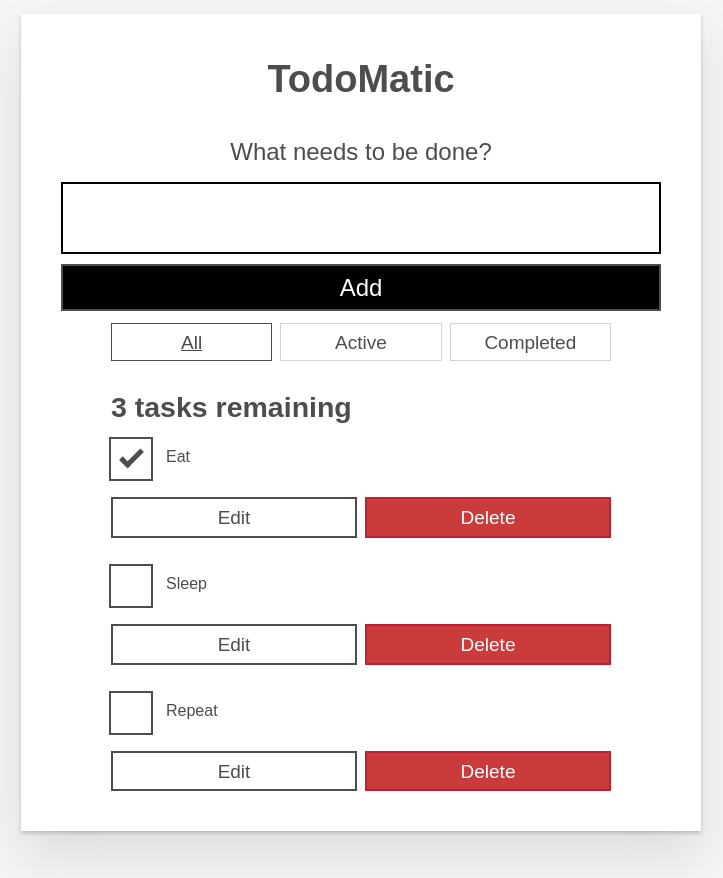
Scenario: adds a task
Type "Walk the dog" into the field labelled "What needs to be done?" at (361, 218), box [61, 182, 661, 254]
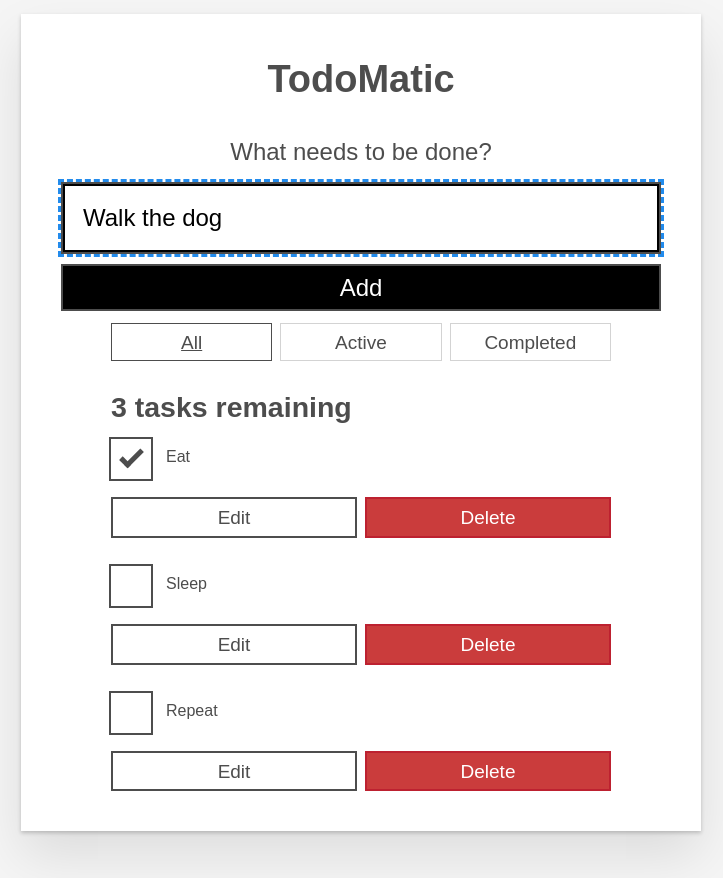
Click the button "Add" at (361, 287), box [61, 264, 661, 311]
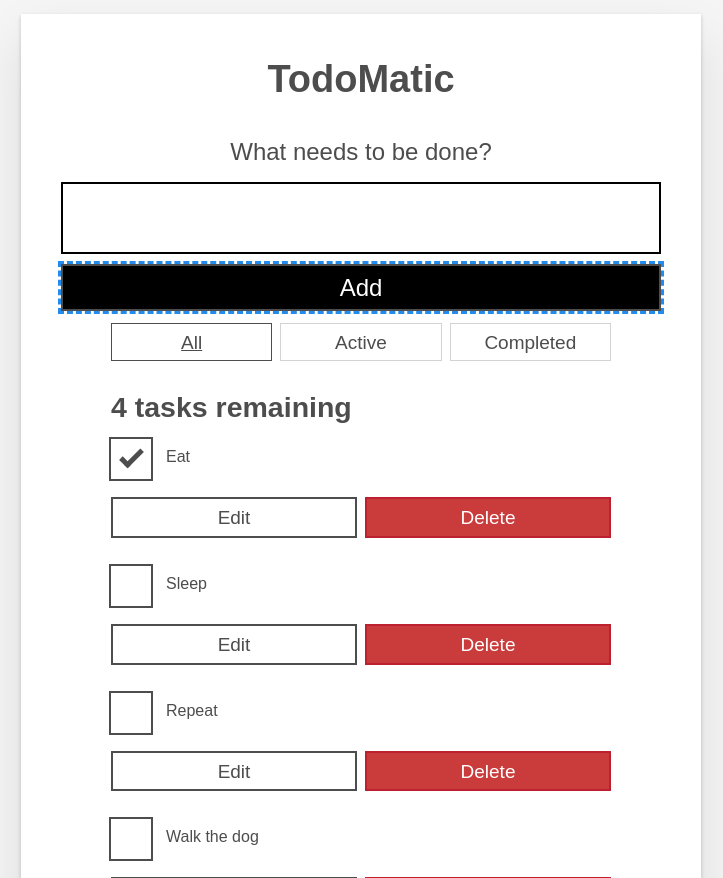
Expected: the checkbox labelled "Walk the dog" is not checked, [166, 828, 259, 845]
Expected: the heading "4 tasks remaining" is shown, [111, 391, 352, 423]
